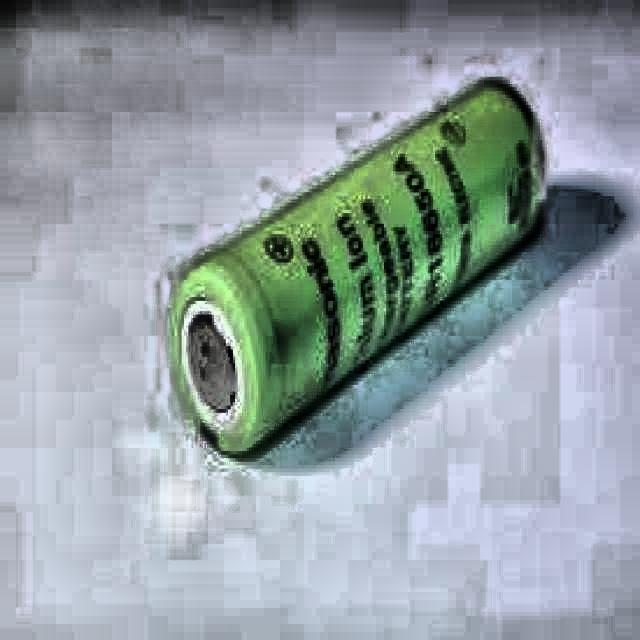battery: (172, 79, 548, 457)
